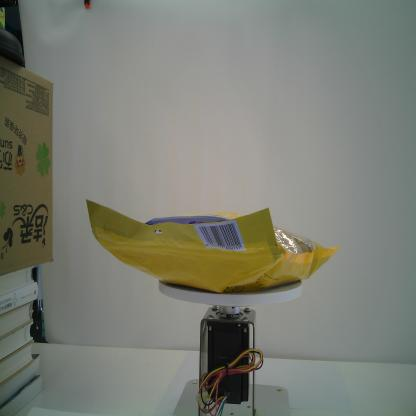Dried Food: (82, 194, 341, 292)
